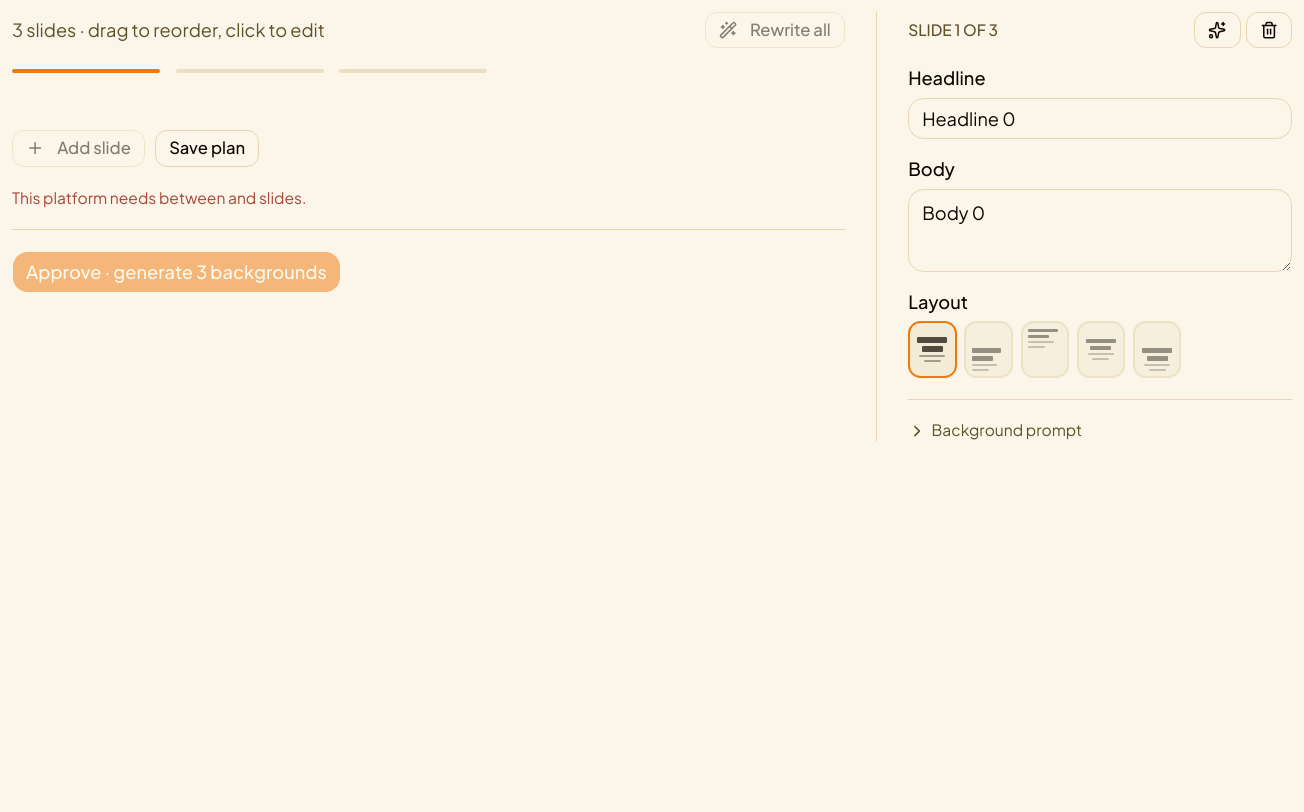
it: ScenarioEditor › keeps the background prompt out of the way until it is asked for
Expected: the field showing "Visual 0" is not shown
Click the button "Background prompt" at (995, 431), box [908,420,1082,441]
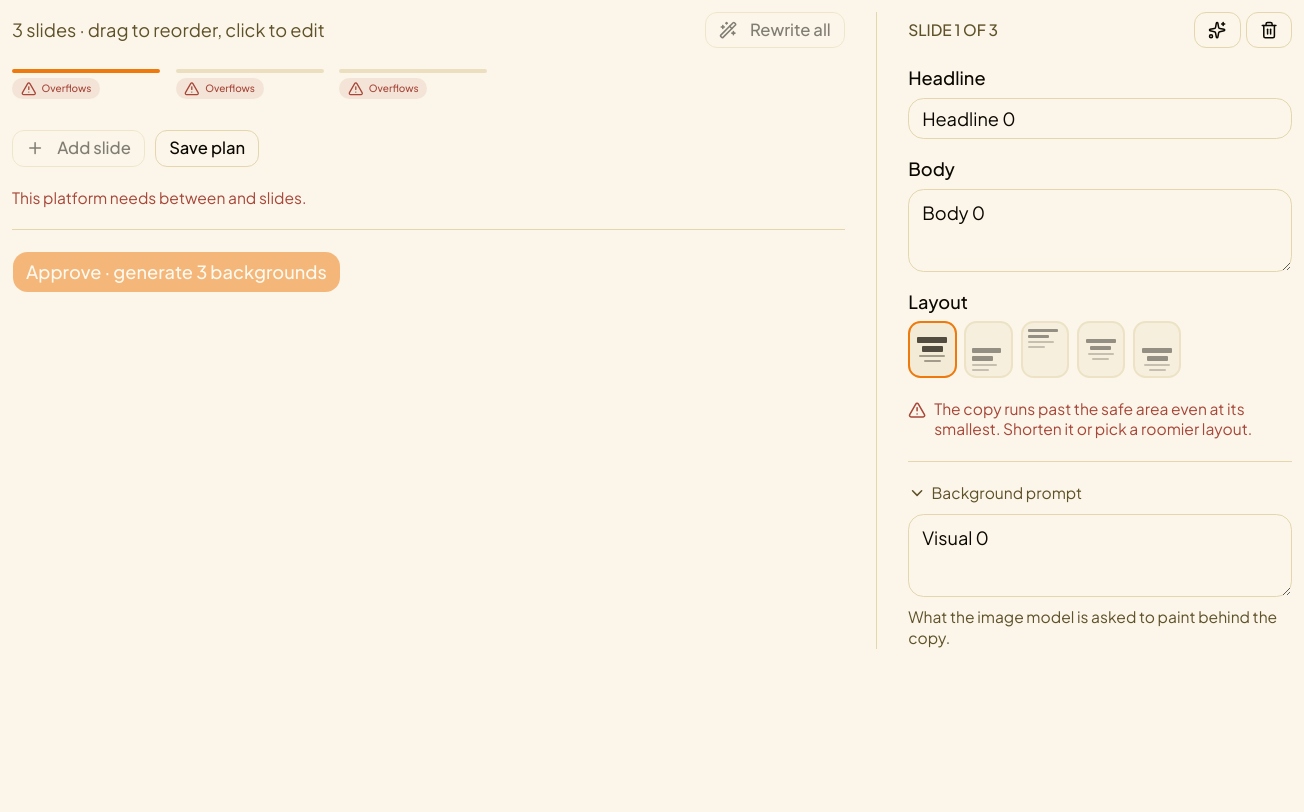
Result: the text box showing "Visual 0" is shown at [908,514,1292,597]
